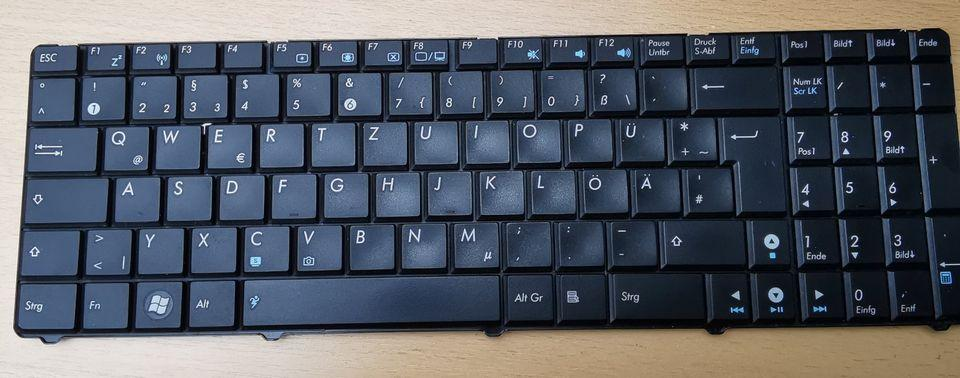0: (538, 67, 585, 114)
1: (79, 74, 125, 121)
2: (130, 73, 177, 120)
3: (180, 72, 228, 119)
4: (233, 72, 279, 117)
5: (284, 71, 330, 116)
6: (335, 70, 381, 116)
7: (387, 70, 433, 115)
8: (437, 68, 483, 115)
9: (487, 67, 534, 114)
a: (113, 174, 160, 222)
accent: (641, 65, 687, 111)
ae: (632, 166, 681, 214)
alt-left: (187, 277, 235, 328)
altgr-right: (503, 271, 553, 322)
b: (345, 221, 395, 270)
c: (240, 223, 290, 272)
caret: (29, 75, 74, 121)
comma: (503, 219, 551, 267)
d: (216, 172, 264, 220)
del: (691, 64, 777, 111)
e: (204, 121, 252, 169)
enter: (720, 113, 783, 213)
f: (269, 171, 316, 219)
g: (320, 170, 368, 218)
h: (372, 170, 420, 217)
hash: (684, 166, 732, 213)
i: (463, 118, 509, 163)
j: (424, 168, 471, 216)
k: (476, 168, 524, 215)
keyboard: (8, 22, 959, 345)
l: (528, 168, 576, 215)
less: (84, 226, 131, 275)
m: (450, 219, 499, 269)
minus: (606, 219, 656, 266)
n: (398, 220, 447, 269)
o: (513, 117, 561, 163)
oe: (579, 166, 628, 214)
p: (565, 116, 612, 162)
plus: (669, 115, 716, 162)
point: (556, 218, 604, 266)
q: (101, 124, 150, 171)
r: (257, 121, 304, 167)
s: (164, 173, 212, 222)
shift-left: (18, 228, 78, 275)
shift-lock: (23, 175, 107, 223)
shift-right: (661, 216, 745, 266)
space: (240, 273, 501, 327)
ss: (589, 66, 636, 113)
strg-left: (13, 280, 77, 330)
strg-right: (609, 270, 705, 321)
t: (309, 120, 356, 166)
tab: (26, 124, 97, 172)
u: (411, 119, 458, 165)
ue: (616, 116, 664, 163)
v: (294, 222, 343, 271)
w: (153, 122, 200, 170)
x: (188, 224, 237, 273)
y: (135, 226, 184, 274)
z: (360, 120, 407, 167)
